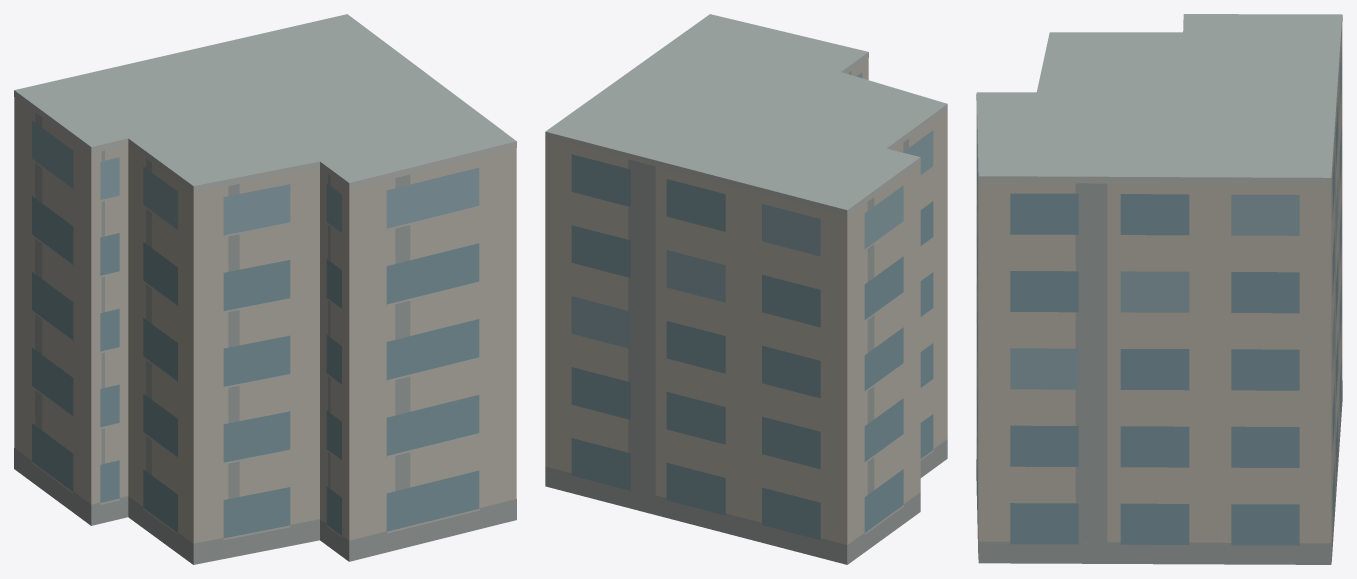
Rendered from survey-upis-32724931.glb.
The picture shows the model from 3 angles, left to right: view 1: azimuth 30°, elevation 25°; view 2: azimuth 150°, elevation 25°; view 3: azimuth 270°, elevation 25°; orthographic projection. The views are drawn at different scales.
Visible parts, largest first — view 1: survey-upis-32724931.tmp; view 2: survey-upis-32724931.tmp; view 3: survey-upis-32724931.tmp.
Boxes of the visible parts, x1,y1,x2,y2 form: survey-upis-32724931.tmp: (14, 14, 516, 564); survey-upis-32724931.tmp: (545, 14, 947, 564); survey-upis-32724931.tmp: (976, 14, 1342, 564).
Bounding box in the file's own units: 12.63 × 13.9 × 11.92.
